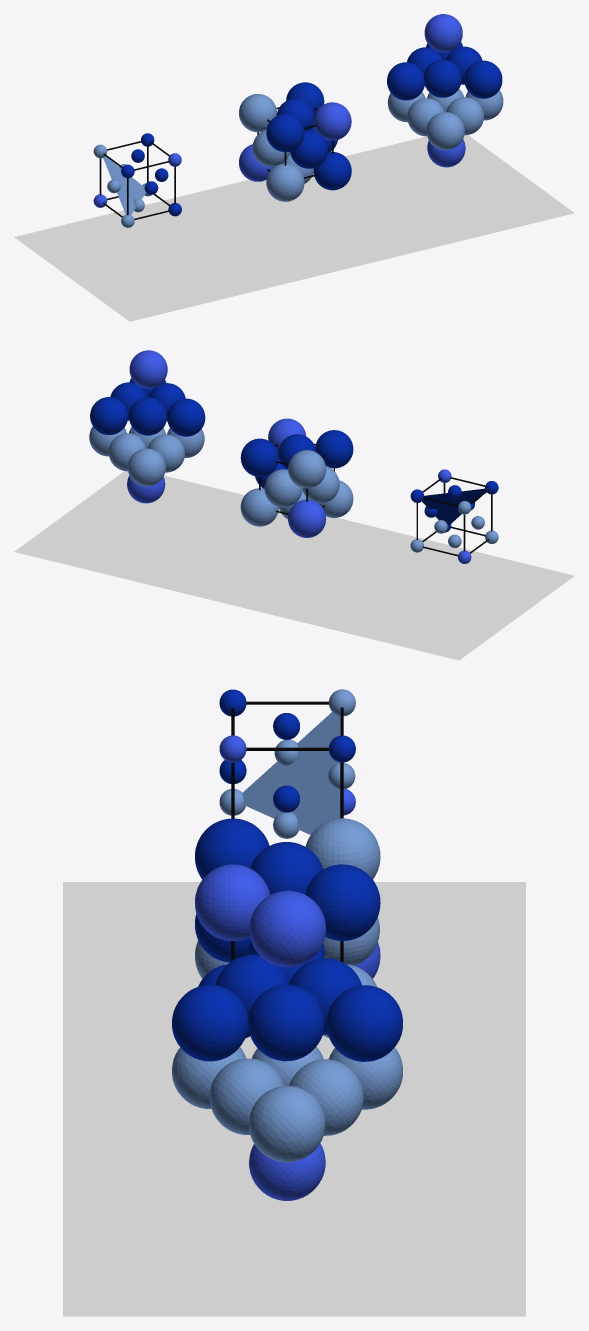
Rendered from CCCaMetal.gltf.
3 views of the same model, one above another, from view 1: azimuth 30°, elevation 25°; view 2: azimuth 150°, elevation 25°; view 3: azimuth 270°, elevation 25° (orthographic). The views are drawn at different scales.
Parts seen in each view (by area): view 1: Plane, Sphere.025_Sphere.026, Sphere.007, Sphere.021_Sphere.022, Sphere.020_Sphere.021, Sphere.002, Sphere.019_Sphere.020, Sphere.003, Sphere.024_Sphere.025, Sphere, Sphere.006, Sphere.009 (+13 smaller); view 2: Plane, Sphere.025_Sphere.026, Sphere, Sphere.001, Sphere.024_Sphere.025, Sphere.004, Sphere.027_Sphere.028, Sphere.008, Sphere.026_Sphere.027, Sphere.003, Sphere.010, Sphere.005 (+13 smaller); view 3: Plane, Plane.003, Sphere.025_Sphere.026, Sphere.015_Sphere.013, Sphere.022_Sphere.023, Sphere.021_Sphere.022, Sphere.026_Sphere.027, Sphere.002, Sphere.001, Sphere.017_Sphere.018, Sphere.018_Sphere.019, Sphere (+11 smaller).
Part boxes in pixels (left/top/right/bottom): Plane: left=14, top=135, right=574, bottom=321; Sphere.025_Sphere.026: left=424, top=14, right=462, bottom=52; Sphere.007: left=266, top=163, right=304, bottom=201; Sphere.021_Sphere.022: left=464, top=60, right=502, bottom=98; Sphere.020_Sphere.021: left=426, top=112, right=464, bottom=150; Sphere.002: left=313, top=102, right=351, bottom=140; Sphere.019_Sphere.020: left=424, top=59, right=461, bottom=97; Sphere.003: left=266, top=114, right=304, bottom=152; Sphere.024_Sphere.025: left=387, top=62, right=424, bottom=100; Sphere: left=239, top=94, right=276, bottom=132; Sphere.006: left=313, top=152, right=351, bottom=190; Sphere.009: left=290, top=130, right=327, bottom=168; Plane: left=14, top=471, right=574, bottom=660; Sphere.025_Sphere.026: left=129, top=350, right=167, bottom=388; Sphere: left=288, top=450, right=326, bottom=488; Sphere.001: left=240, top=438, right=278, bottom=476; Sphere.024_Sphere.025: left=167, top=398, right=205, bottom=436; Sphere.004: left=288, top=499, right=326, bottom=537; Sphere.027_Sphere.028: left=127, top=448, right=165, bottom=486; Sphere.008: left=129, top=397, right=166, bottom=435; Sphere.026_Sphere.027: left=90, top=397, right=128, bottom=434; Sphere.003: left=315, top=430, right=353, bottom=468; Sphere.010: left=264, top=469, right=302, bottom=507; Sphere.005: left=240, top=488, right=278, bottom=526; Plane: left=63, top=882, right=525, bottom=1316; Plane.003: left=242, top=712, right=340, bottom=834; Sphere.025_Sphere.026: left=249, top=890, right=325, bottom=967; Sphere.015_Sphere.013: left=248, top=984, right=324, bottom=1061; Sphere.022_Sphere.023: left=249, top=1086, right=325, bottom=1162; Sphere.021_Sphere.022: left=172, top=985, right=248, bottom=1061; Sphere.026_Sphere.027: left=326, top=985, right=402, bottom=1061; Sphere.002: left=195, top=864, right=270, bottom=940; Sphere.001: left=305, top=864, right=380, bottom=940; Sphere.017_Sphere.018: left=209, top=1058, right=284, bottom=1134; Sphere.018_Sphere.019: left=289, top=1059, right=363, bottom=1135; Sphere: left=305, top=818, right=380, bottom=879.
Size of the model in its own units: 37.65 by 14.1 by 16.96.
